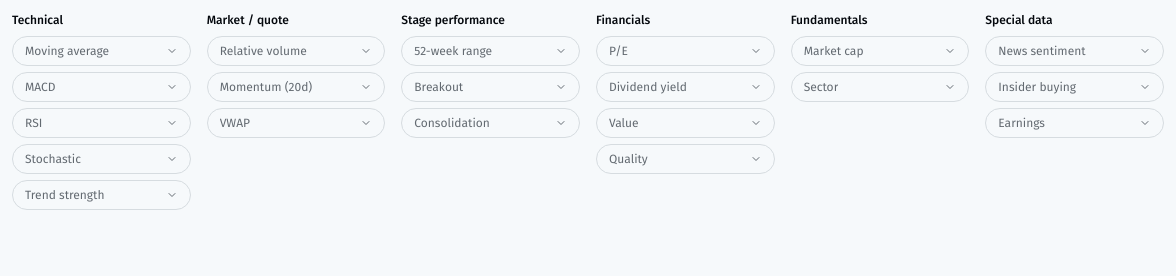
it: ConditionBuilder chips + universe › chips name the pill, not just the option
This screenshot has width=1176, height=276.
Click the button with test id "condition-pill-P/E": (685, 51) [596,36,775,66]
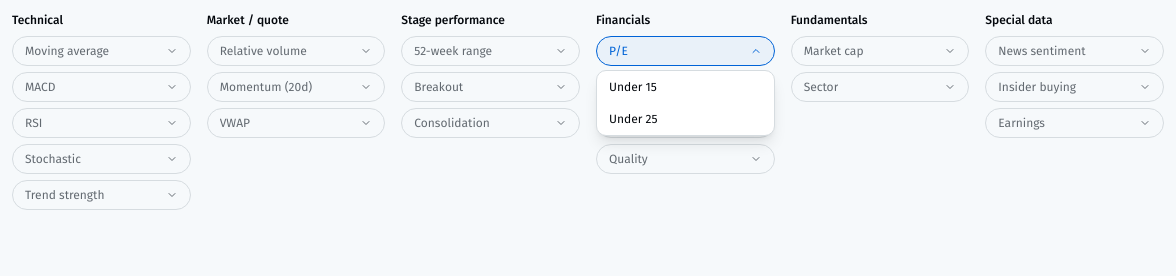
Click the button "Under 15": (685, 87) [597,71,774,103]
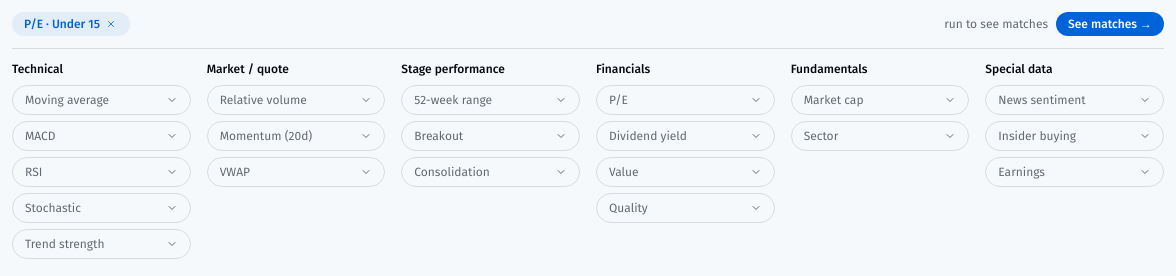
Expected: the element with test id "condition-chip" reads "P/E · Under 15", [12,12,130,36]
